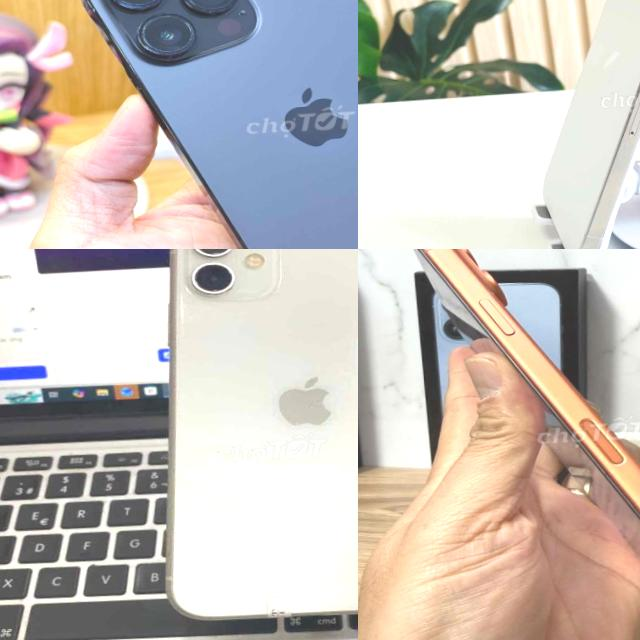gen_11: (152, 249, 358, 637)
gen_14: (81, 0, 358, 249)
gen_15: (498, 0, 640, 249)
gen_17: (400, 249, 640, 617)
